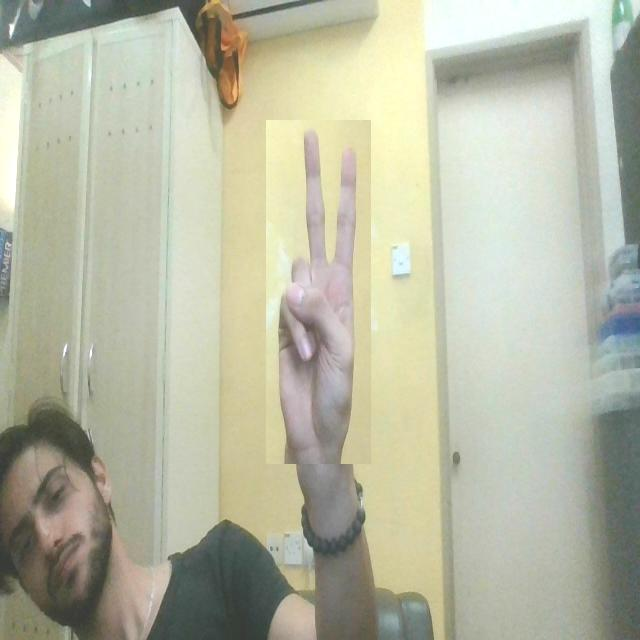peace: (266, 120, 371, 464)
